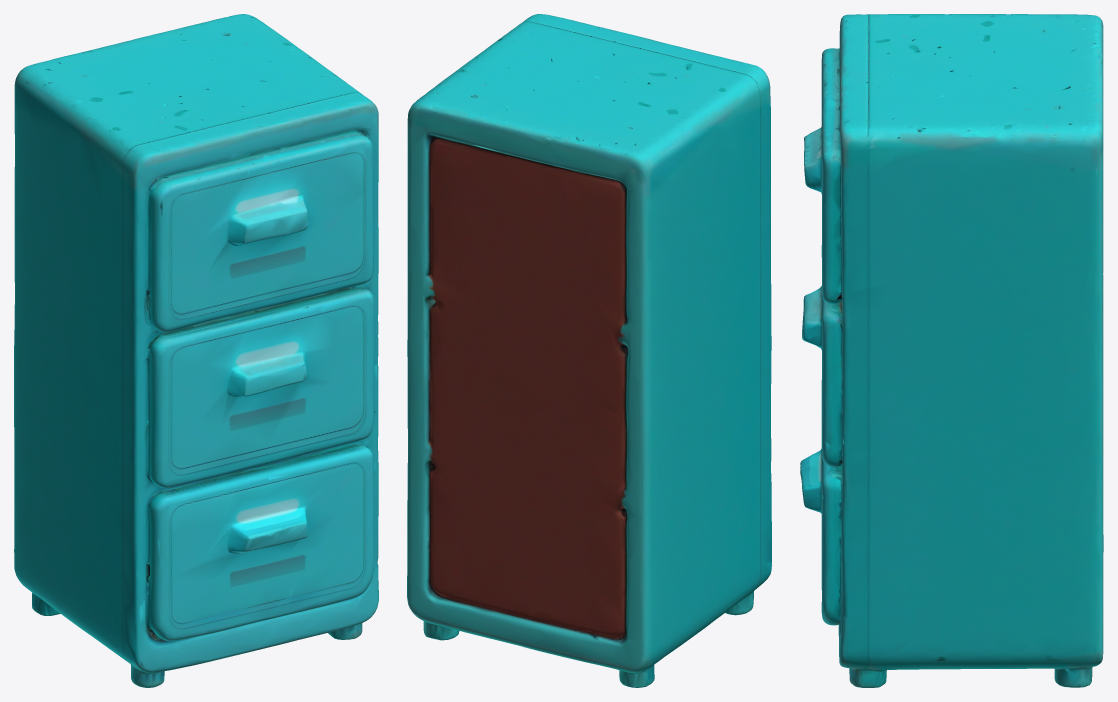
The model's file is featureStore.glb.
The picture shows the model from 3 angles, left to right: view 1: azimuth 30°, elevation 25°; view 2: azimuth 150°, elevation 25°; view 3: azimuth 270°, elevation 25°; orthographic projection. The views are drawn at different scales.
Bounding box in the file's own units: 0.9552 × 2 × 0.9797.
Materials: 1 (1 with a texture image).
